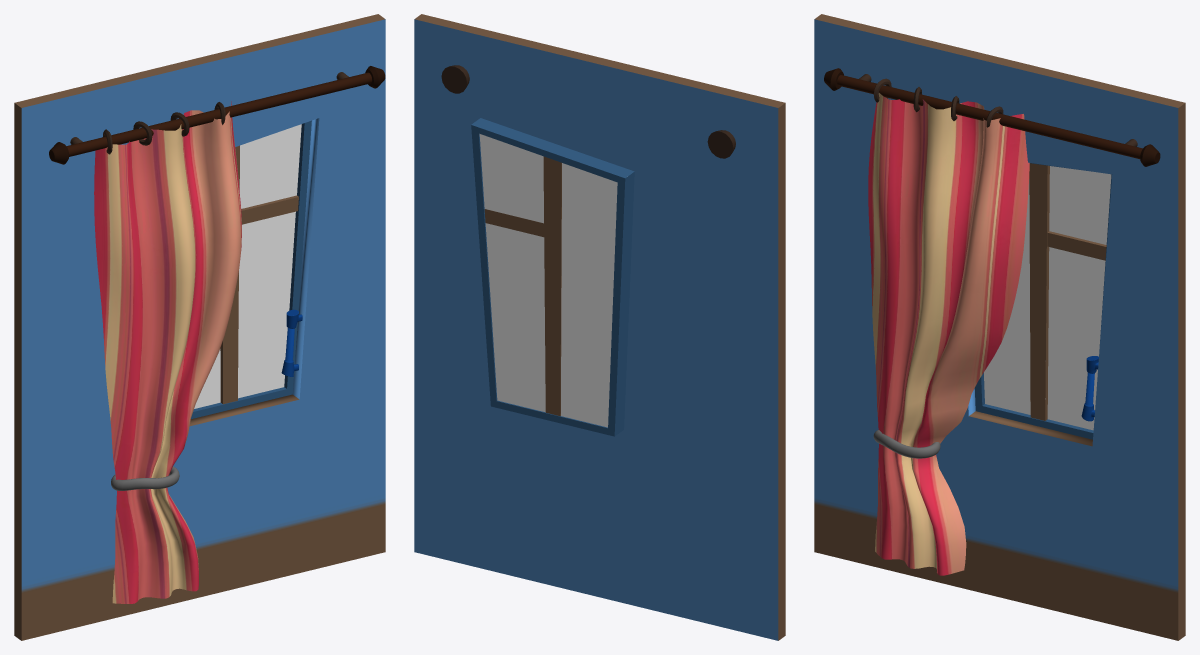
Rendered from duvar-ve-pencere.fbx.
3 renders of one model, left to right at view 1: azimuth 30°, elevation 25°; view 2: azimuth 150°, elevation 25°; view 3: azimuth 330°, elevation 25°, orthographic.
Visible parts, largest first — view 1: Duvar, pencere; view 2: Duvar, pencere; view 3: Duvar, pencere.
Boxes of the visible parts, x1,y1,x2,y2 form: Duvar: [14, 14, 385, 640]; pencere: [49, 66, 385, 603]; Duvar: [414, 14, 785, 640]; pencere: [441, 65, 735, 436]; Duvar: [814, 14, 1185, 640]; pencere: [824, 68, 1160, 575].
Size of the model in its own units: 1502 by 2100 by 318.
4 materials, 3 textured.
